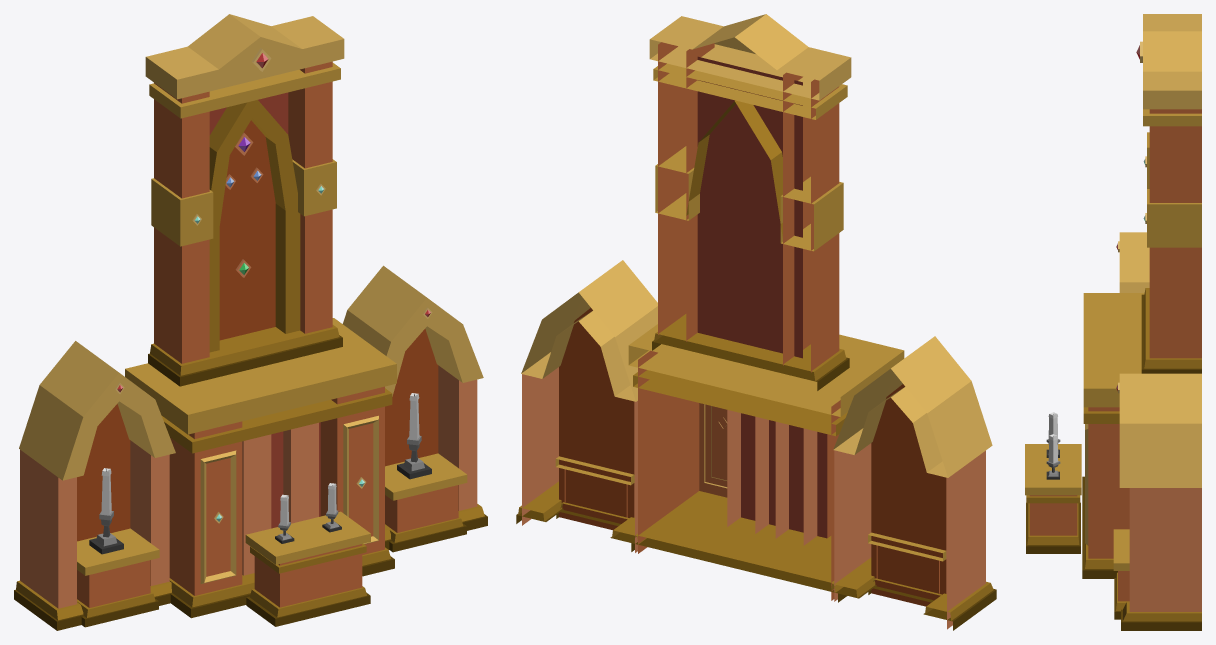
File: Cathedral Hall Decor 01.fbx
3 renders of one model, left to right at view 1: azimuth 30°, elevation 25°; view 2: azimuth 150°, elevation 25°; view 3: azimuth 270°, elevation 25°, orthographic. The views are drawn at different scales.
Visible parts, largest first — view 1: Cathedral_Hall_Decor_01; view 2: Cathedral_Hall_Decor_01; view 3: Cathedral_Hall_Decor_01.
Boxes of the visible parts, x1,y1,x2,y2 form: Cathedral_Hall_Decor_01: [14, 14, 487, 630]; Cathedral_Hall_Decor_01: [516, 14, 996, 630]; Cathedral_Hall_Decor_01: [1025, 14, 1201, 630].
Size of the model in its own units: 585 by 691 by 221.
